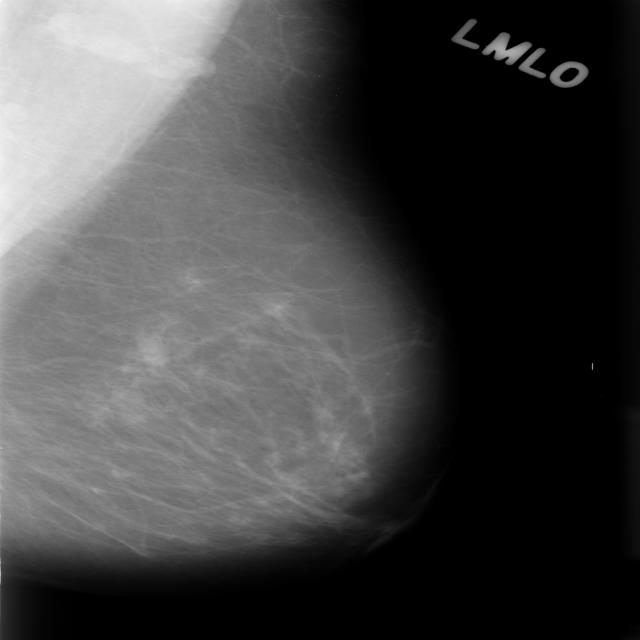normal: (0, 0, 422, 595)
